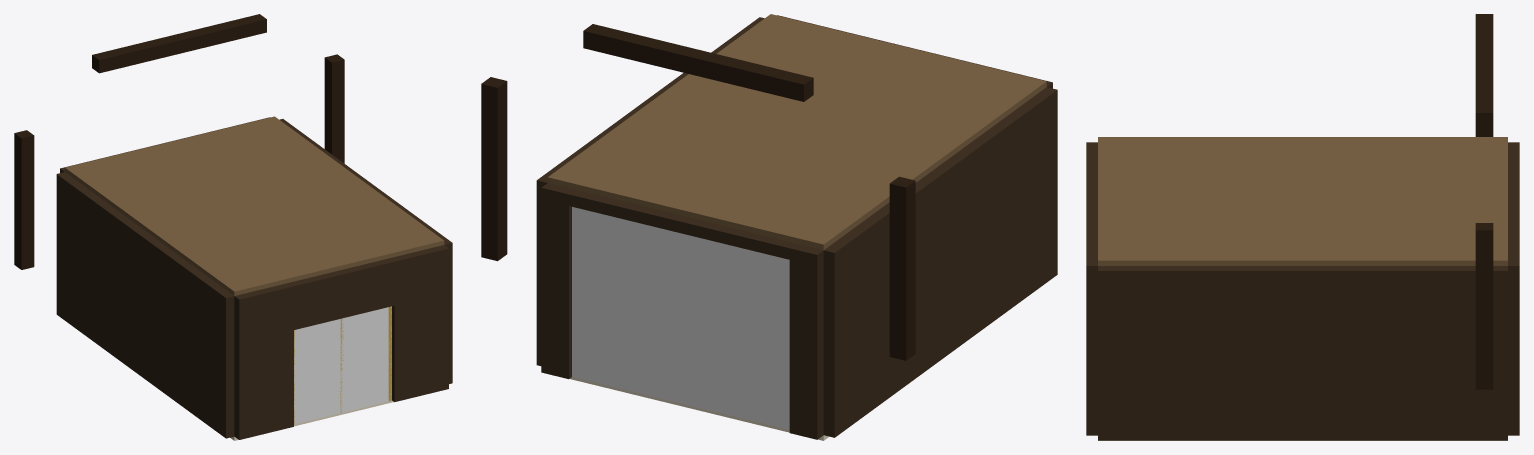
3 views of the same model, side by side, from view 1: azimuth 30°, elevation 25°; view 2: azimuth 150°, elevation 25°; view 3: azimuth 270°, elevation 25° (orthographic). The views are drawn at different scales.
Visible parts, largest first — view 1: Z1_Ceiling, Z1_Wall_W, Z1_DoorsSouth_MARK, Z1_Wall_S_Seg_L, Z1_Wall_S_Seg_R, Z1_Wall_S_Lintel, Z1_Arch_Lintel, Z1_Arch_Jamb_L, Z1_Arch_Jamb_R, Z1_Wall_E; view 2: Z1_Ceiling, Z1_Wall_W, Z1_ArchOpening_MARK, Z1_Wall_N_Seg_L, Z1_Arch_Lintel, Z1_Wall_N_Seg_R, Z1_Arch_Jamb_R, Z1_Arch_Jamb_L, Z1_Wall_N_Lintel, Z1_Wall_E, Z1_Floor; view 3: Z1_Wall_E, Z1_Ceiling, Z1_Arch_Jamb_R, Z1_Wall_S_Seg_R, Z1_Wall_N_Seg_R, Z1_Arch_Lintel, Z1_Wall_N_Lintel, Z1_Wall_S_Lintel.
Part boxes in pixels (<box>): Z1_Ceiling: <box>65,116,444,295</box>; Z1_Wall_W: <box>56,172,234,438</box>; Z1_DoorsSouth_MARK: <box>294,306,391,423</box>; Z1_Wall_S_Seg_L: <box>234,283,293,439</box>; Z1_Wall_S_Seg_R: <box>390,245,448,402</box>; Z1_Wall_S_Lintel: <box>289,258,394,329</box>; Z1_Arch_Lintel: <box>92,14,266,73</box>; Z1_Arch_Jamb_L: <box>14,130,34,269</box>; Z1_Arch_Jamb_R: <box>324,54,344,163</box>; Z1_Wall_E: <box>279,119,452,383</box>; Z1_Ceiling: <box>547,14,1046,250</box>; Z1_Wall_W: <box>823,87,1057,437</box>; Z1_ArchOpening_MARK: <box>572,207,789,429</box>; Z1_Wall_N_Seg_L: <box>789,243,823,439</box>; Z1_Arch_Lintel: <box>583,24,813,101</box>; Z1_Wall_N_Seg_R: <box>541,183,574,379</box>; Z1_Arch_Jamb_R: <box>481,77,507,261</box>; Z1_Arch_Jamb_L: <box>889,176,915,360</box>; Z1_Wall_N_Lintel: <box>569,190,795,259</box>; Z1_Wall_E: <box>536,17,764,365</box>; Z1_Floor: <box>570,377,828,440</box>; Z1_Wall_E: <box>1098,266,1507,440</box>; Z1_Ceiling: <box>1098,137,1507,265</box>; Z1_Arch_Jamb_R: <box>1475,223,1493,389</box>; Z1_Wall_S_Seg_R: <box>1086,233,1097,435</box>; Z1_Wall_N_Seg_R: <box>1508,253,1519,435</box>; Z1_Arch_Lintel: <box>1475,14,1493,128</box>; Z1_Wall_N_Lintel: <box>1508,154,1519,253</box>; Z1_Wall_S_Lintel: <box>1086,174,1097,233</box>.
Bounding box in the file's own units: 7.7 × 5.95 × 7.4.
